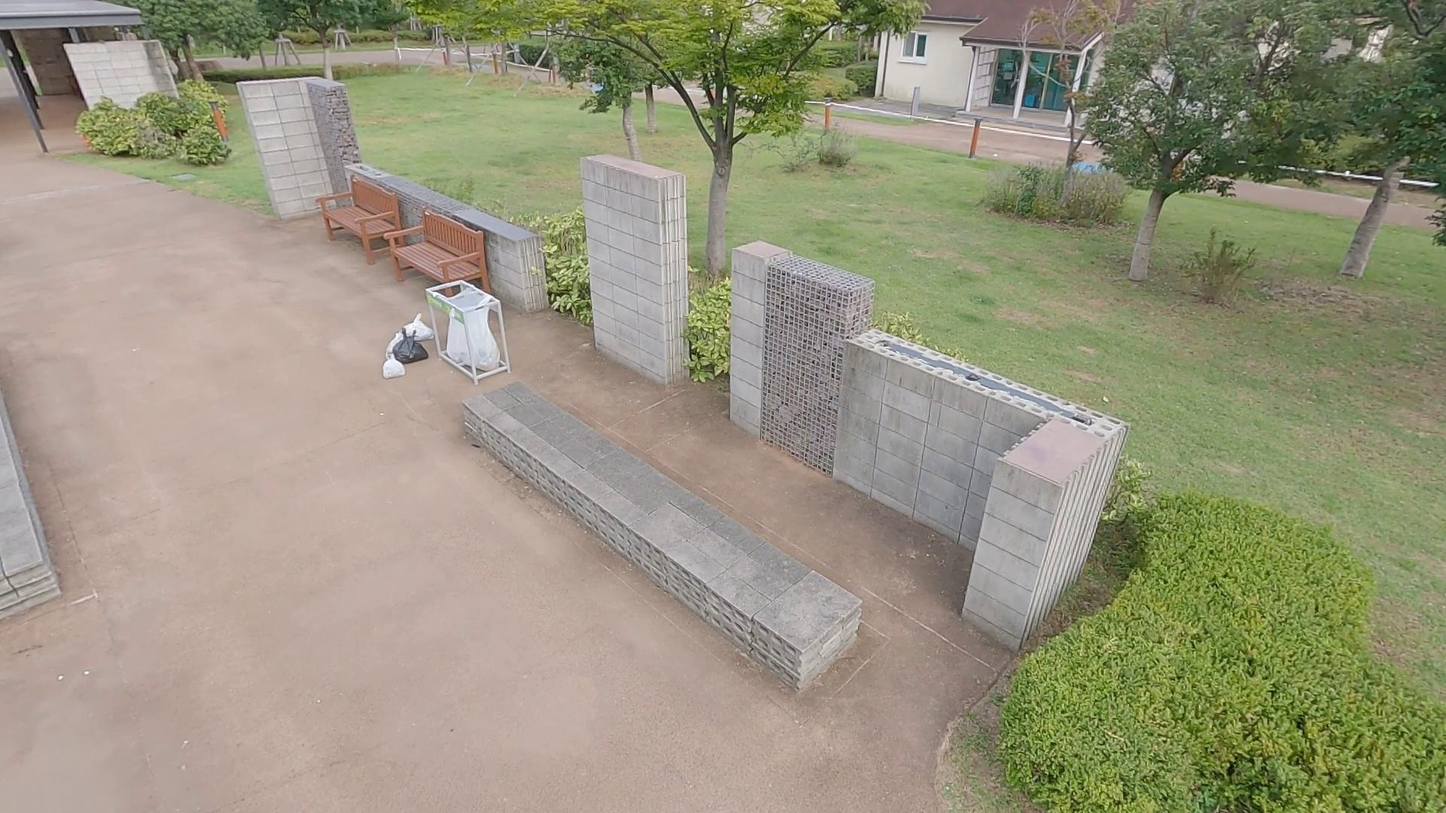trash: (385, 311, 438, 350), (393, 323, 430, 366), (380, 351, 406, 379)
